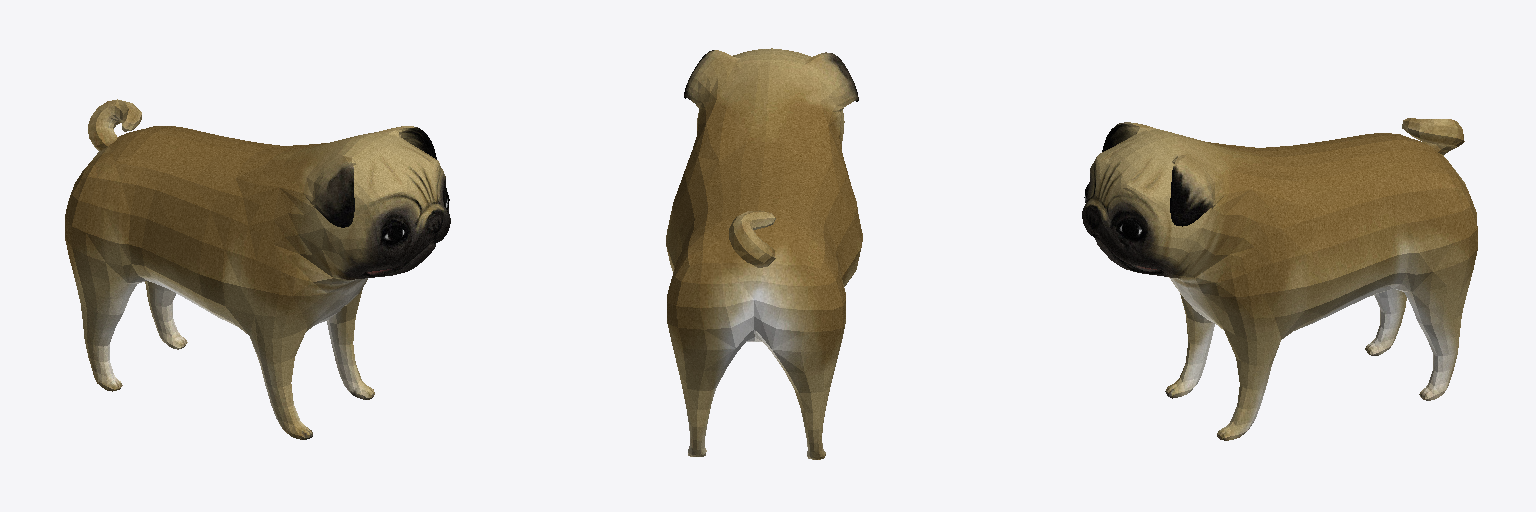
3 views of the same model, side by side, from view 1: azimuth 30°, elevation 25°; view 2: azimuth 150°, elevation 25°; view 3: azimuth 270°, elevation 25° (orthographic).
Visible parts, largest first — view 1: Cube; view 2: Cube; view 3: Cube.
Part boxes in pixels (left/top/right/bottom): Cube: left=65, top=99, right=450, bottom=439; Cube: left=666, top=48, right=862, bottom=459; Cube: left=1082, top=118, right=1477, bottom=440.
Bounding box in the file's own units: 1.81 × 1.93 × 2.39.
1 materials, 1 textured.